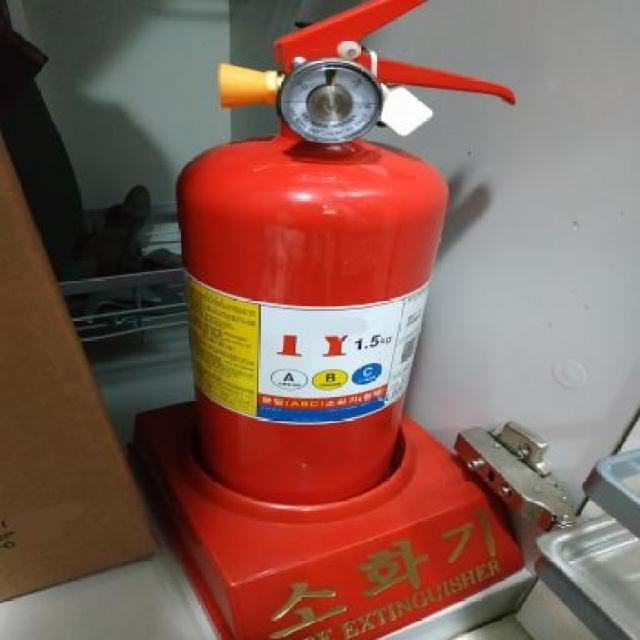fire extinguisher: (174, 0, 517, 506)
